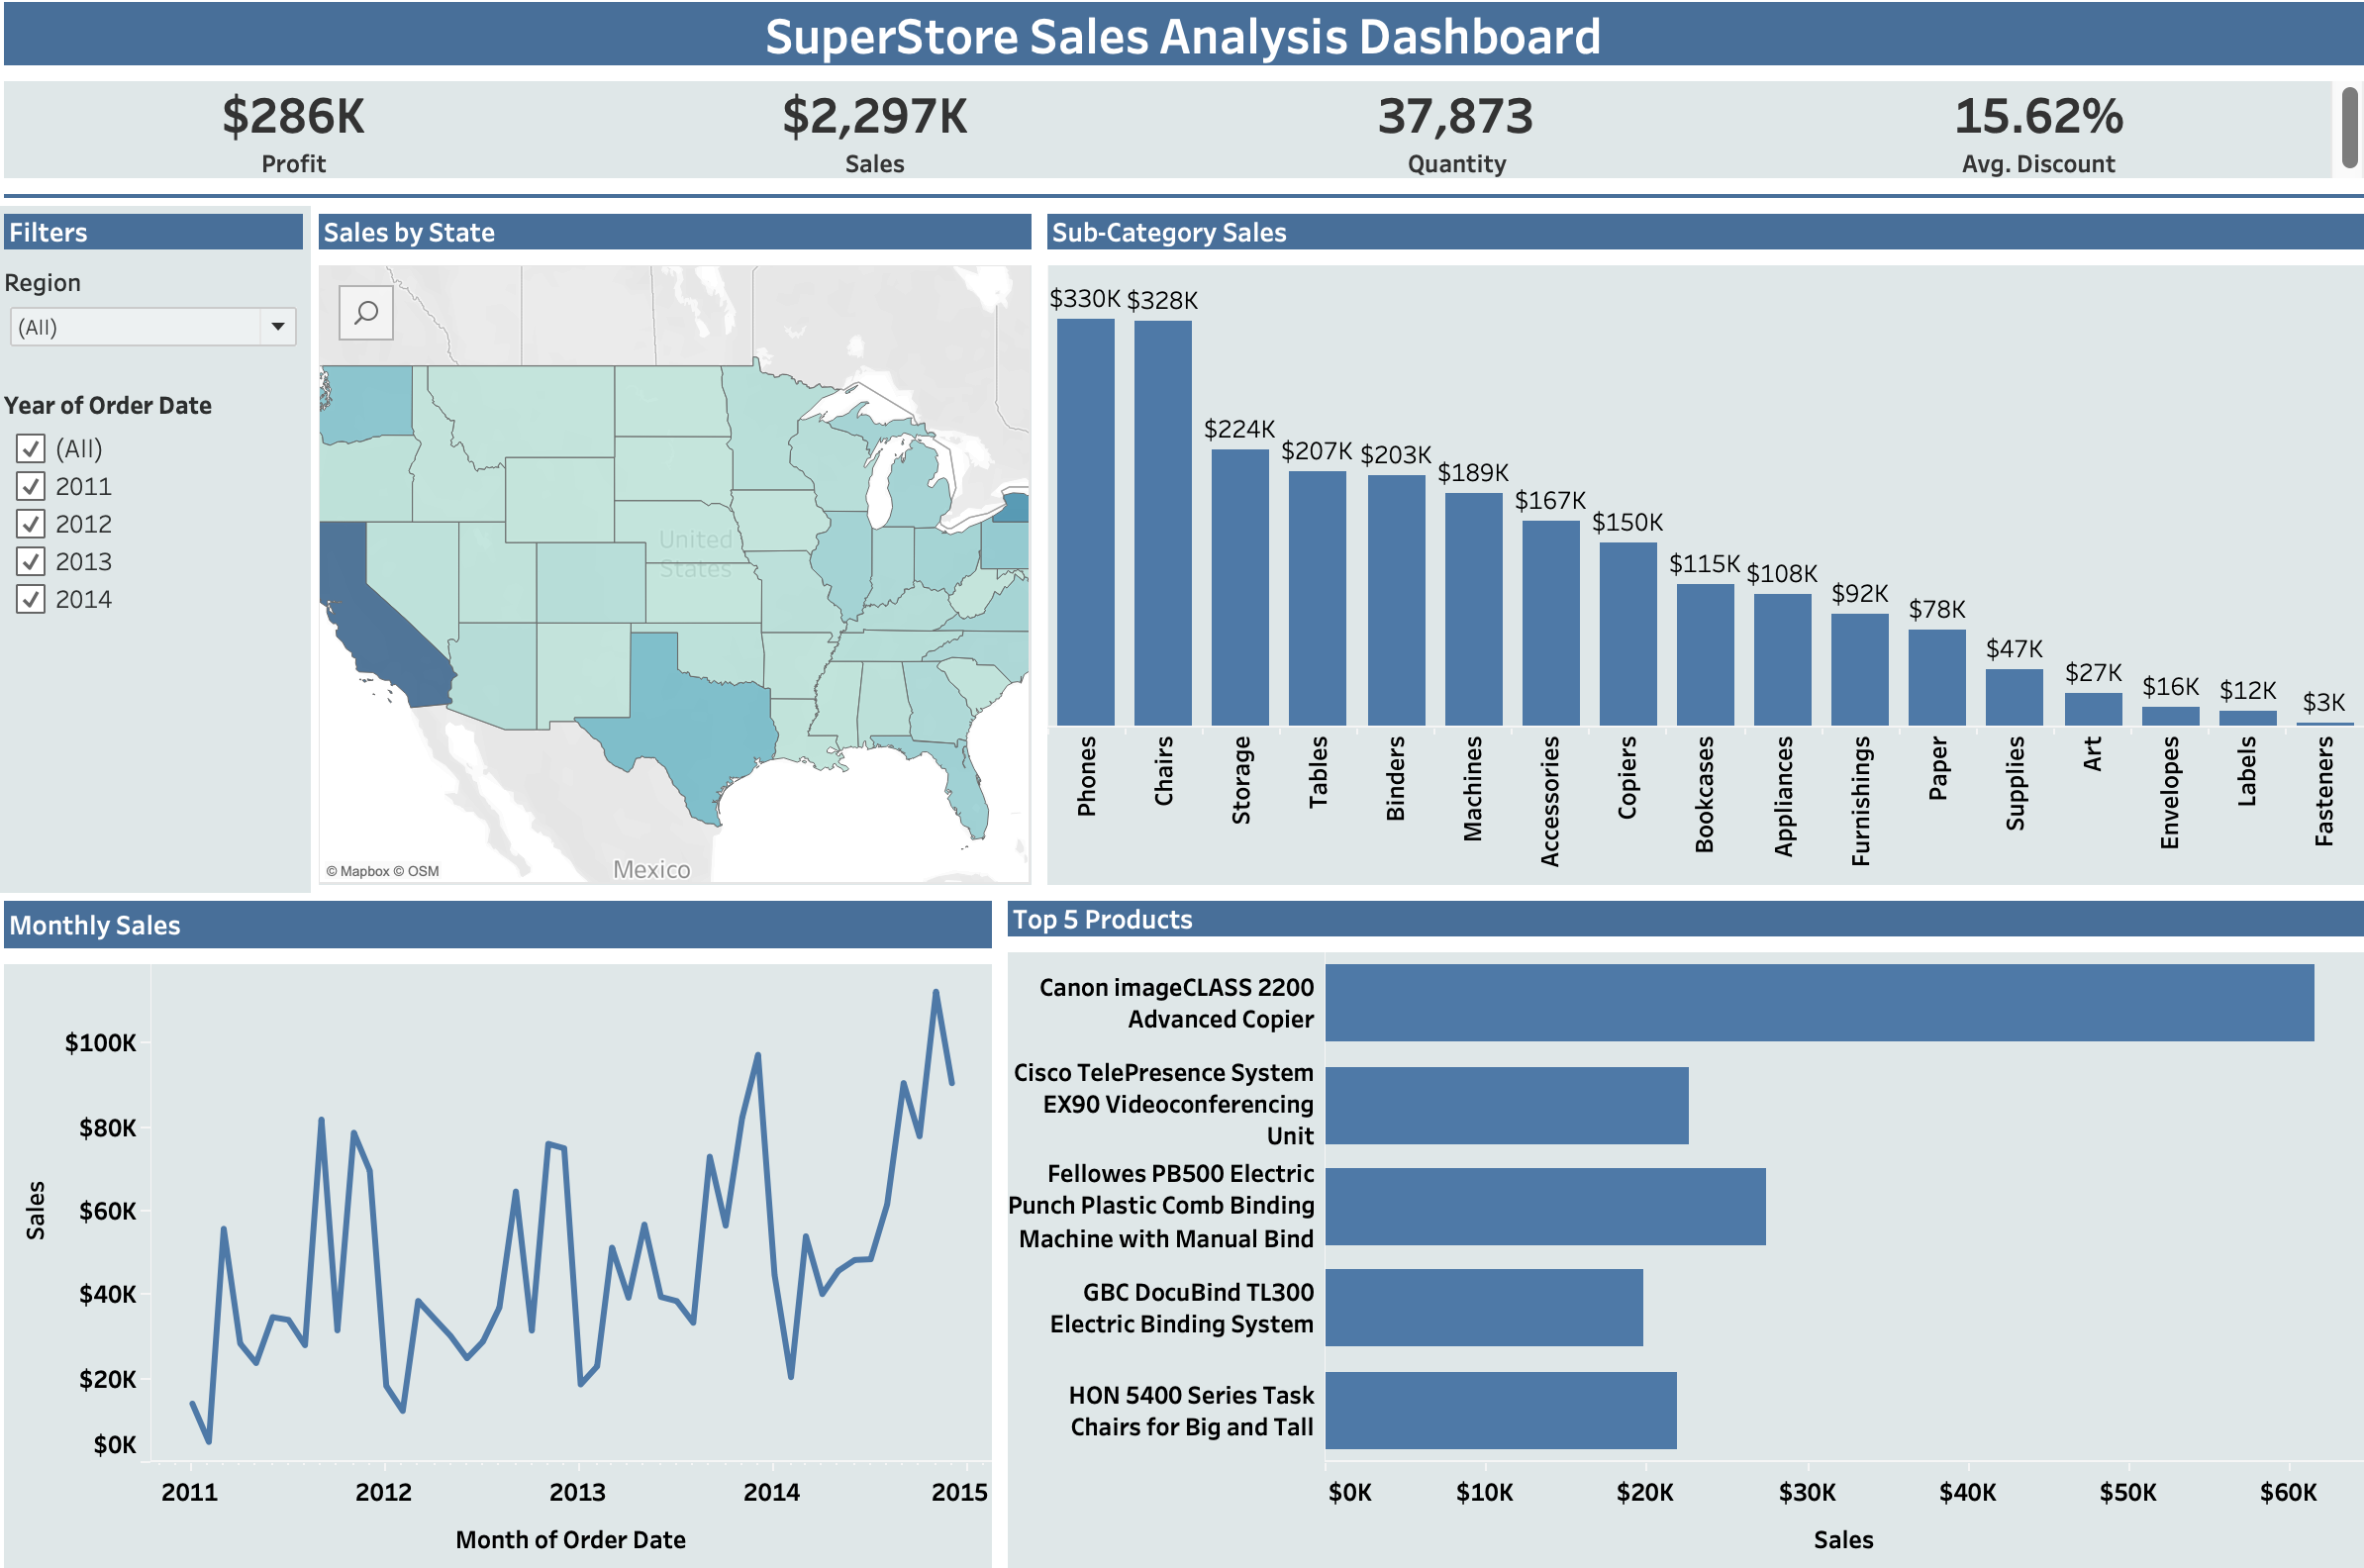

The page's visual inventory and layout, read from the dashboard file:
{"tool":"tableau","page":{"name":"SuperStore Sales","canvas":[1200,800],"ordinal":0},"visuals":[{"type":"text","box":[0,0,1200,40]},{"type":"worksheet","title":"KPI","mark":"Automatic","box":[0,40,1200,57]},{"type":"blank","box":[0,97,1200,10]},{"type":"text","box":[0,107,159,26]},{"type":"text","box":[159,107,368,26]},{"type":"text","box":[527,107,673,26]},{"type":"filter","title":"Sales by State","param":"[federated.1yga0fh05qj9u20zuniyu0viqglr].[none:Region:nk]","box":[0,133,159,62]},{"type":"worksheet","title":"Sales by State","mark":"Automatic","box":[159,133,368,321]},{"type":"worksheet","title":"Sub-Category Sales","mark":"Automatic","rows":["Sales"],"cols":["Sub-Category"],"box":[527,133,673,321]},{"type":"filter","title":"Sales over time","param":"[federated.1yga0fh05qj9u20zuniyu0viqglr].[yr:Order Date:ok]","box":[0,195,159,185]},{"type":"text","box":[0,454,507,32]},{"type":"text","box":[507,454,693,26]},{"type":"worksheet","title":"Top 5 Products by Sales","mark":"Automatic","rows":["Product Name"],"cols":["Sales"],"box":[507,480,693,320]},{"type":"worksheet","title":"Sales over time","mark":"Automatic","rows":["Sales"],"cols":["Order Date"],"box":[0,486,507,314]}]}

Visuals, with their boxes in screenshot pixels (x1, y1, x2, y2), scaled from the page's 1200x800 canvas onto the 2364x1568 screenshot:
text: left=0, top=0, right=2363, bottom=78
"KPI" worksheet: left=0, top=78, right=2363, bottom=190
blank: left=0, top=190, right=2363, bottom=210
text: left=0, top=210, right=313, bottom=260
text: left=313, top=210, right=1038, bottom=260
text: left=1038, top=210, right=2363, bottom=260
"Sales by State" filter: left=0, top=260, right=313, bottom=382
"Sales by State" worksheet: left=313, top=260, right=1038, bottom=890
"Sub-Category Sales" worksheet: left=1038, top=260, right=2363, bottom=890
"Sales over time" filter: left=0, top=382, right=313, bottom=744
text: left=0, top=890, right=999, bottom=952
text: left=999, top=890, right=2363, bottom=940
"Top 5 Products by Sales" worksheet: left=999, top=940, right=2363, bottom=1567
"Sales over time" worksheet: left=0, top=952, right=999, bottom=1567
